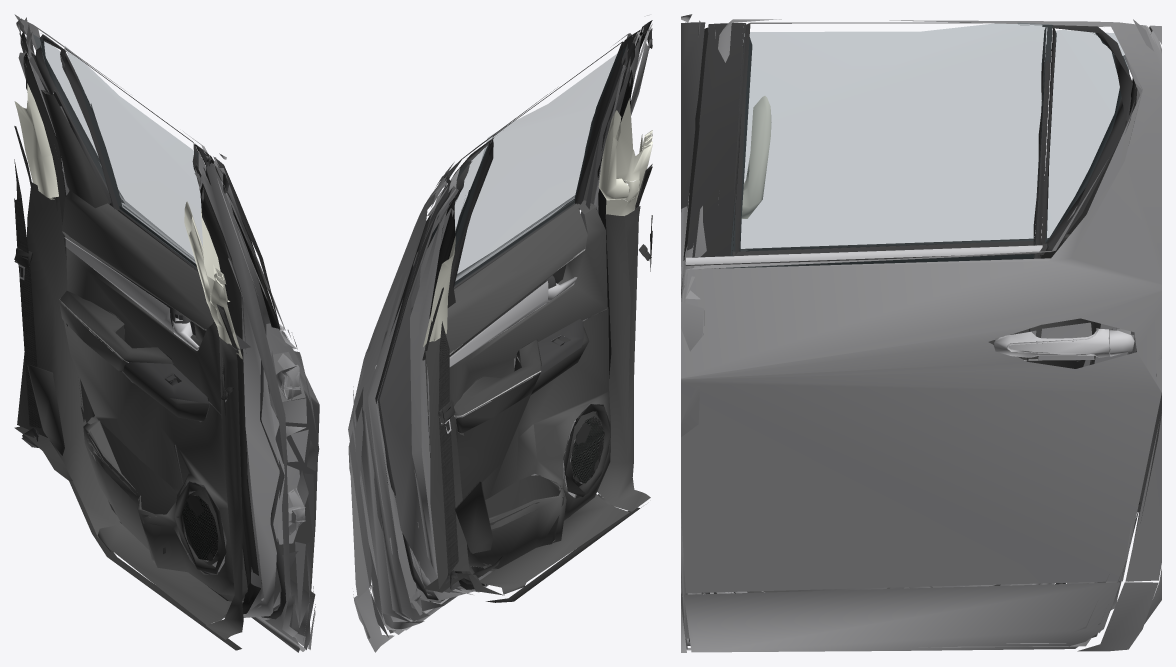
The model's file is hilux_doorRL.glb.
3 views of the same model, side by side, from view 1: azimuth 30°, elevation 25°; view 2: azimuth 150°, elevation 25°; view 3: azimuth 270°, elevation 25° (orthographic). The views are drawn at different scales.
Parts seen in each view (by area): view 1: hilux_doorRL; view 2: hilux_doorRL; view 3: hilux_doorRL.
Part boxes in pixels (box(x1,y1,x2,y2)): hilux_doorRL: box(14, 14, 319, 652); hilux_doorRL: box(348, 15, 652, 652); hilux_doorRL: box(681, 14, 1161, 652).
Size of the model in its own units: 0.2441 by 1.17 by 0.866.
18 materials, 4 textured.
